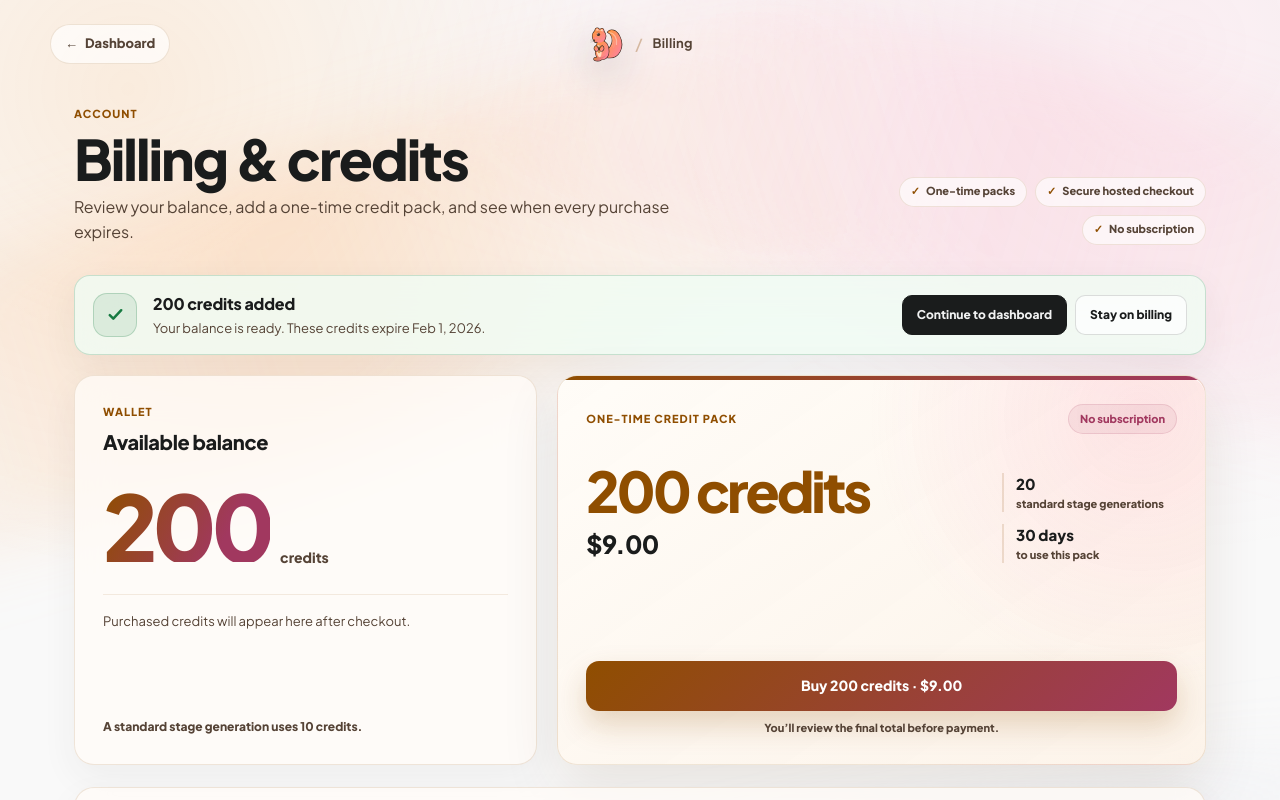
Test case: Billing — checkout_ref polling › lets the user dismiss a completed receipt without losing billing data
Click the button "Stay on billing" at [1131, 315], box [1075,295,1187,335]
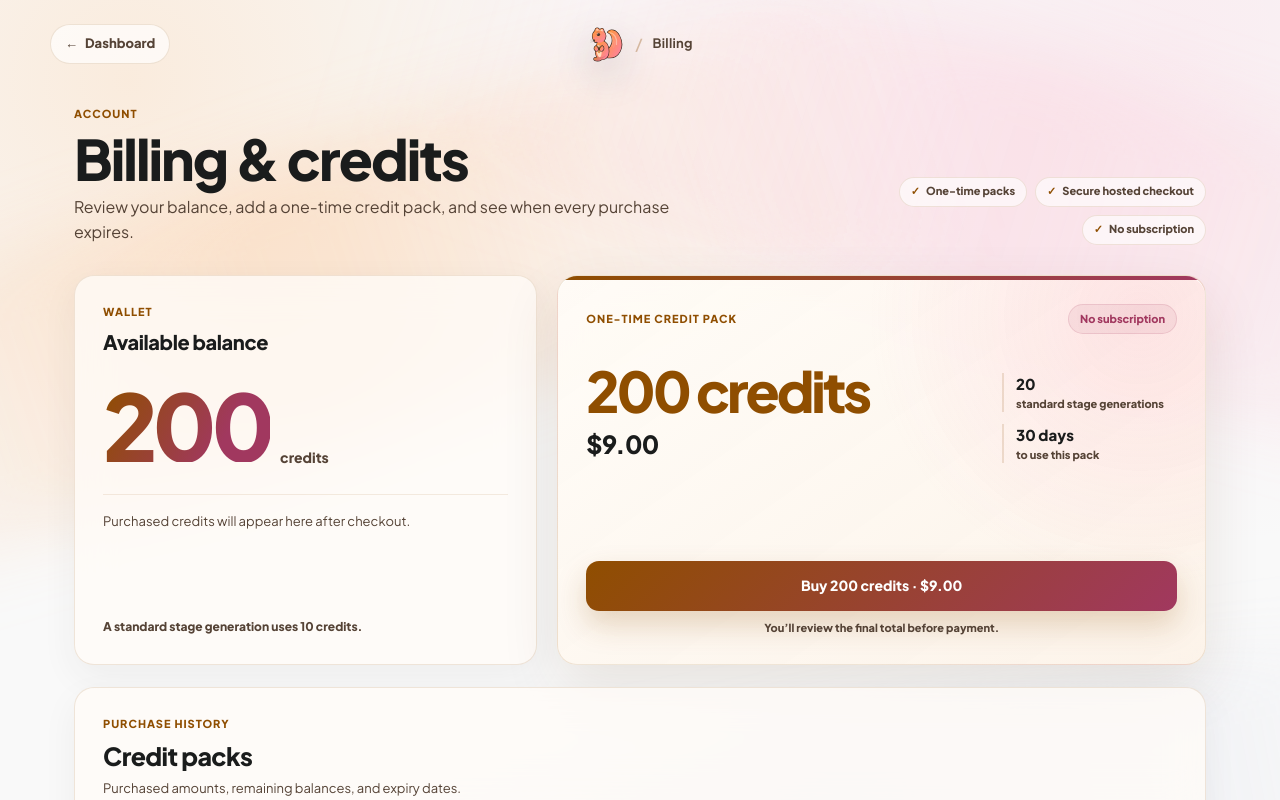
expect the heading "Available balance" is shown: met, box [103,328,268,353]
expect the heading "200 credits added" is gone: met
